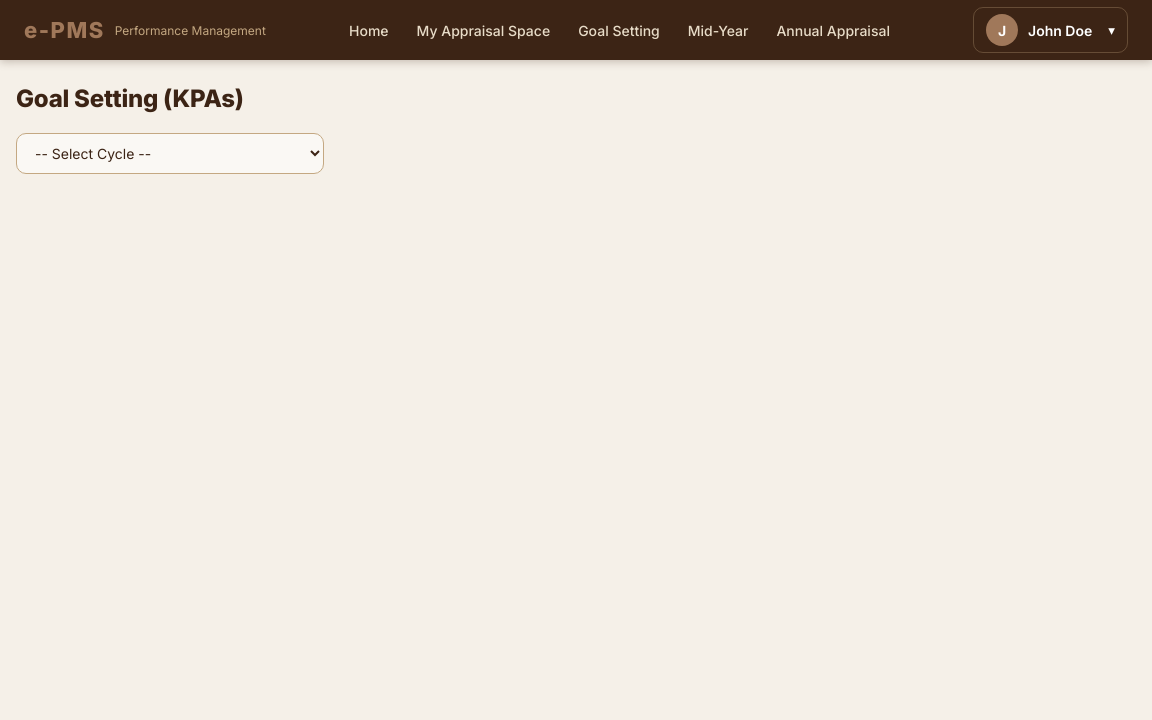
Scenario: Goal Setting Page › loads and displays existing goals after cycle selection
This screenshot has width=1152, height=720.
Select "FY 2024-25 (GOAL SETTING · ACTIVE)" in the dropdown at (170, 154), box [16,133,324,174]
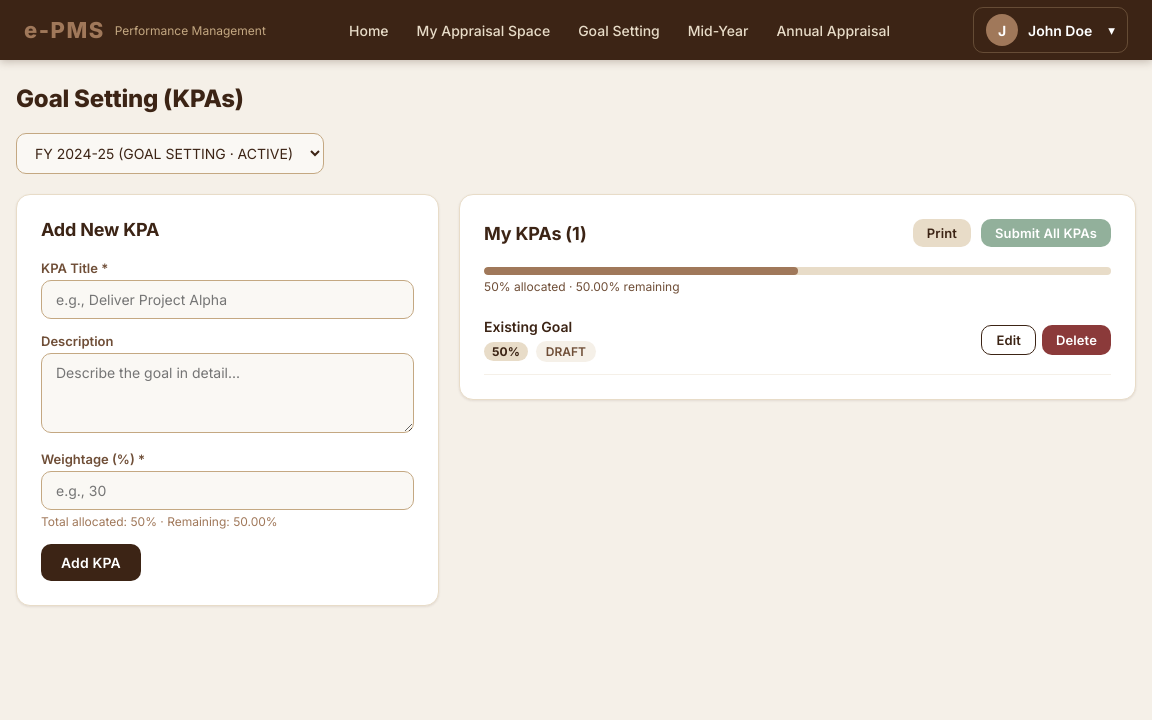
Expected: the text "Existing Goal" is shown, [484,318,572,335]
